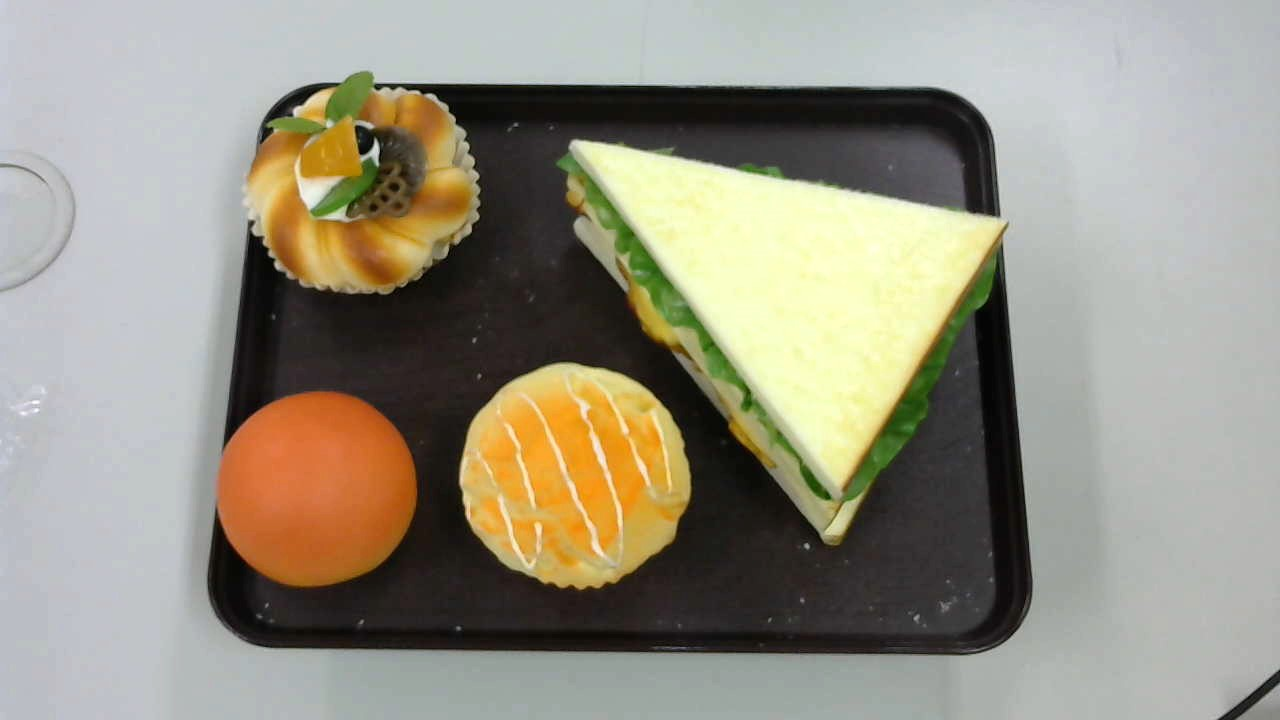bun: (215, 389, 417, 587)
cupcake: (459, 363, 690, 589)
fruit tart: (243, 70, 482, 295)
sandwich: (556, 137, 1009, 545)
